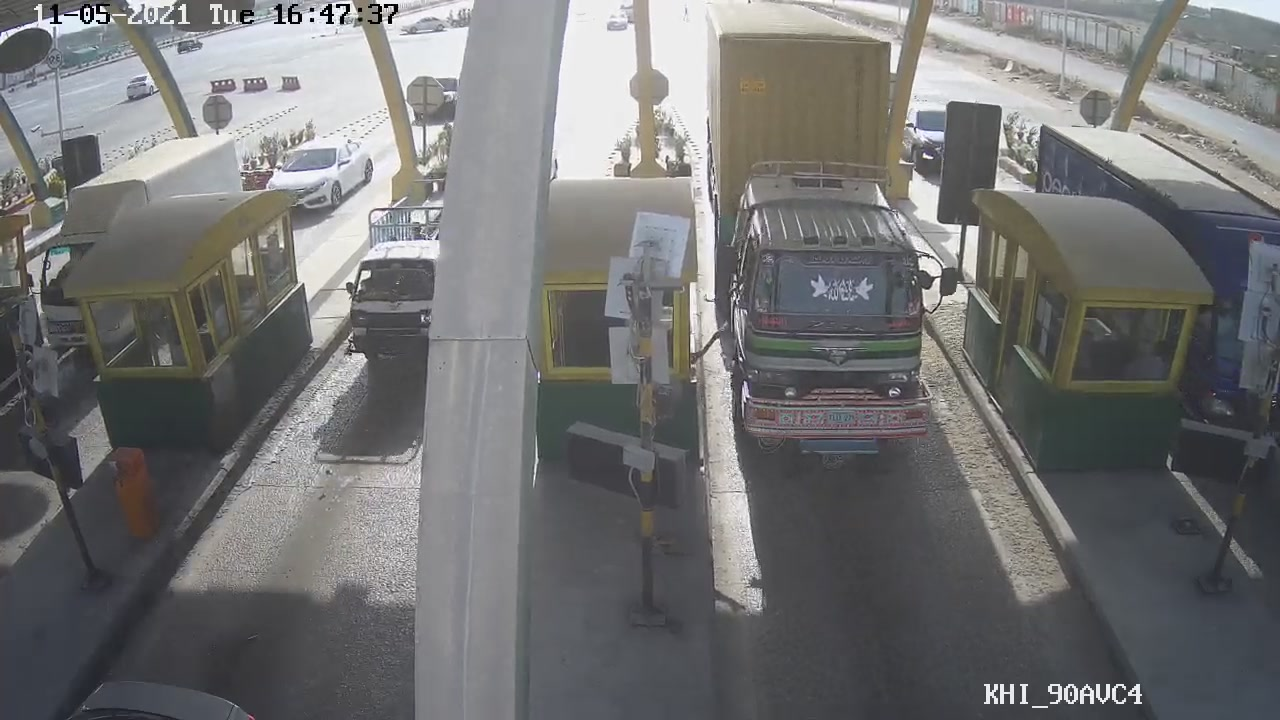F6: (697, 1, 947, 466)
